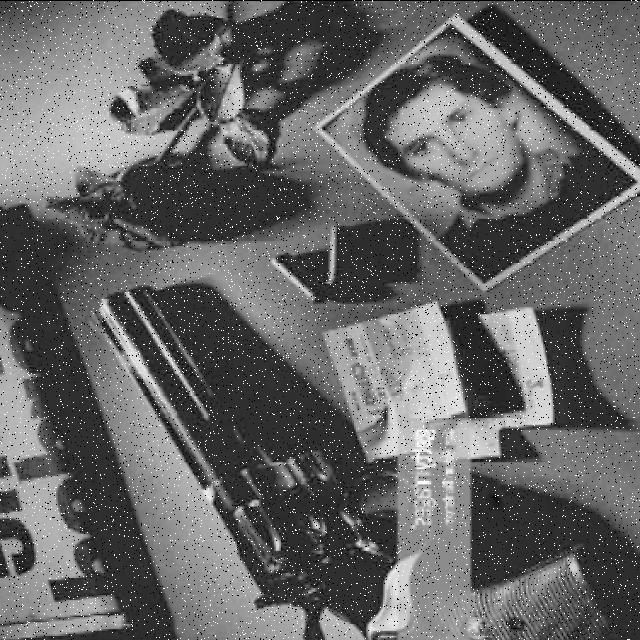Guns: (92, 281, 640, 640)
